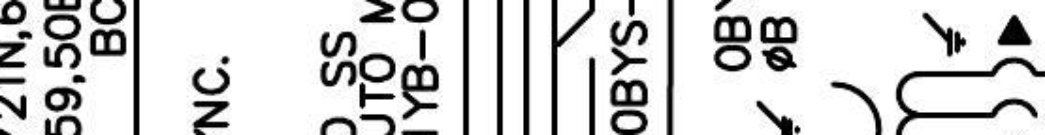115_ds: (558, 9, 596, 65)
